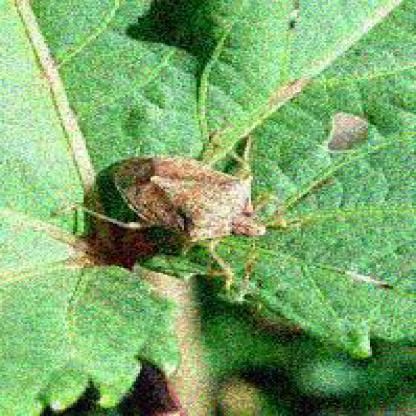ash weevil: (88, 154, 267, 294)
